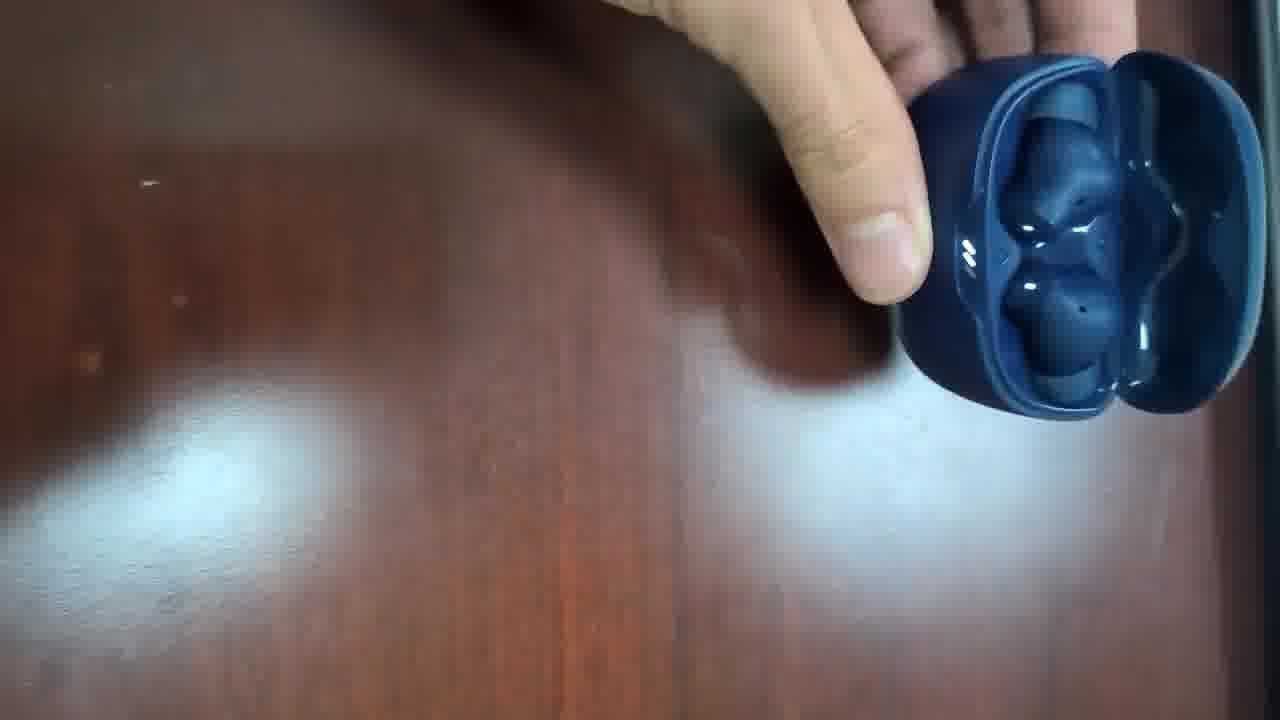Earbud: (1000, 83, 1121, 400), (1000, 82, 1121, 240), (1004, 263, 1121, 375)
